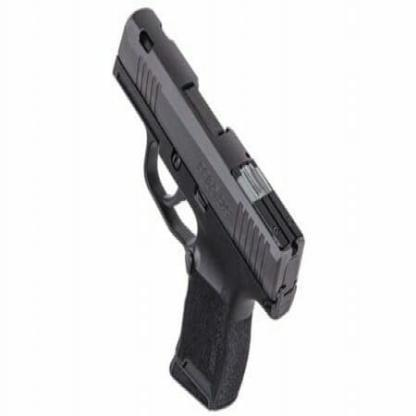Pistol: (49, 2, 321, 411)
